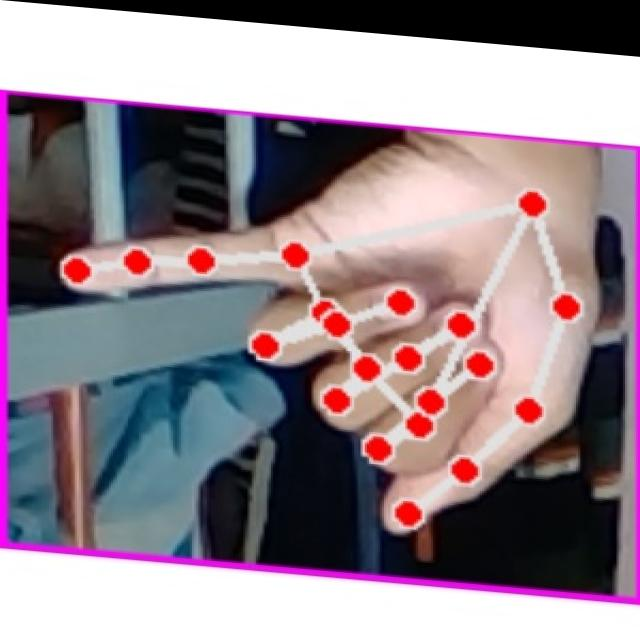J: (35, 117, 613, 558)
